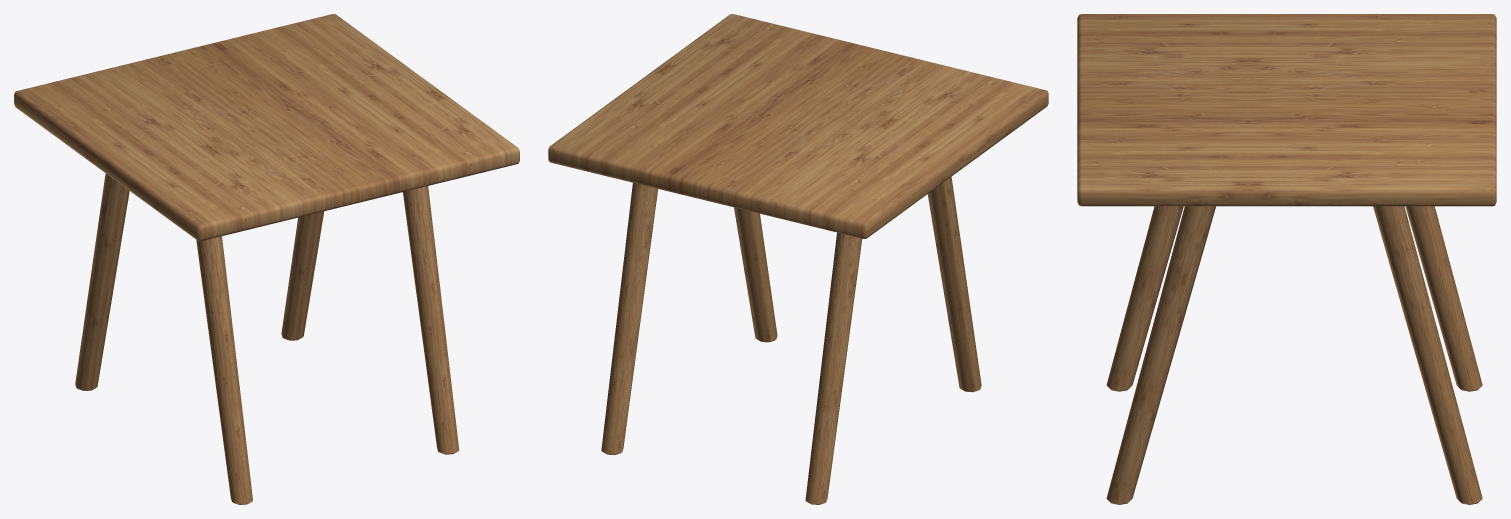
Rendered from plant pot stand2.FBX.
3 renders of one model, left to right at view 1: azimuth 30°, elevation 25°; view 2: azimuth 150°, elevation 25°; view 3: azimuth 270°, elevation 25°, orthographic. The views are drawn at different scales.
Parts seen in each view (by area): view 1: plant pot stand2; view 2: plant pot stand2; view 3: plant pot stand2.
Boxes of the visible parts, bbox=[...] form: plant pot stand2: bbox=[14, 14, 519, 504]; plant pot stand2: bbox=[548, 14, 1048, 504]; plant pot stand2: bbox=[1077, 14, 1496, 504].
Size of the model in its own units: 17 by 17 by 15.25.
Materials: 1 (1 with a texture image).
